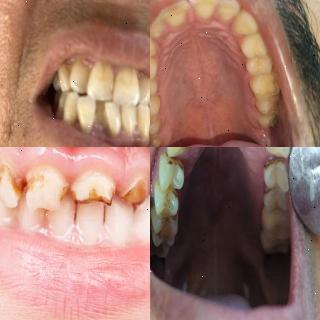Gum Swelling: (50, 147, 150, 191), (0, 147, 51, 177)
cavities: (70, 167, 118, 215), (27, 161, 65, 213), (123, 175, 150, 217), (0, 159, 22, 206)
maligned: (157, 0, 189, 32), (93, 100, 110, 134), (70, 61, 91, 83)
plaque: (121, 121, 150, 139)
stains: (94, 58, 114, 94), (158, 182, 179, 212), (155, 216, 183, 237), (117, 65, 135, 95), (260, 162, 288, 180), (160, 158, 187, 176), (261, 177, 276, 203)
